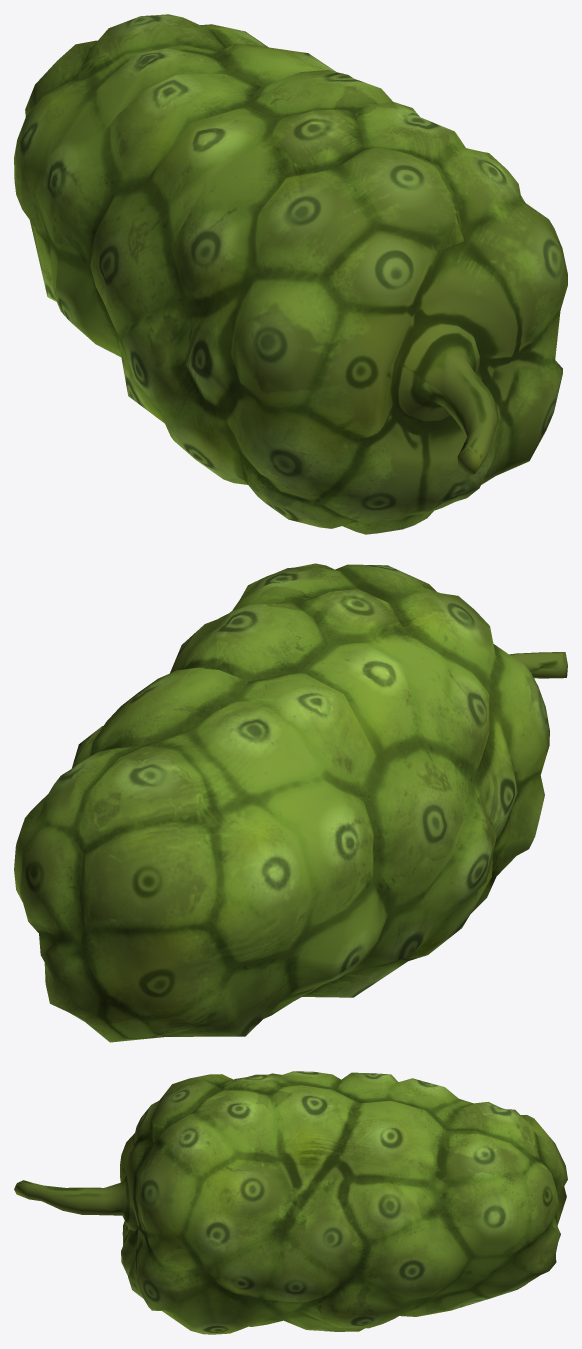
File: NoniA.glb
The picture shows the model from 3 angles, top to bottom: view 1: azimuth 30°, elevation 25°; view 2: azimuth 150°, elevation 25°; view 3: azimuth 270°, elevation 25°; orthographic projection. The views are drawn at different scales.
Parts seen in each view (by area): view 1: NoniA_Noni_0; view 2: NoniA_Noni_0; view 3: NoniA_Noni_0.
Part boxes in pixels (x1,y1,x2,y2): NoniA_Noni_0: (14, 14, 567, 534); NoniA_Noni_0: (14, 563, 567, 1042); NoniA_Noni_0: (14, 1071, 567, 1334).
Size of the model in its own units: 0.6987 by 0.7034 by 1.46.
Materials: 1 (1 with a texture image).
